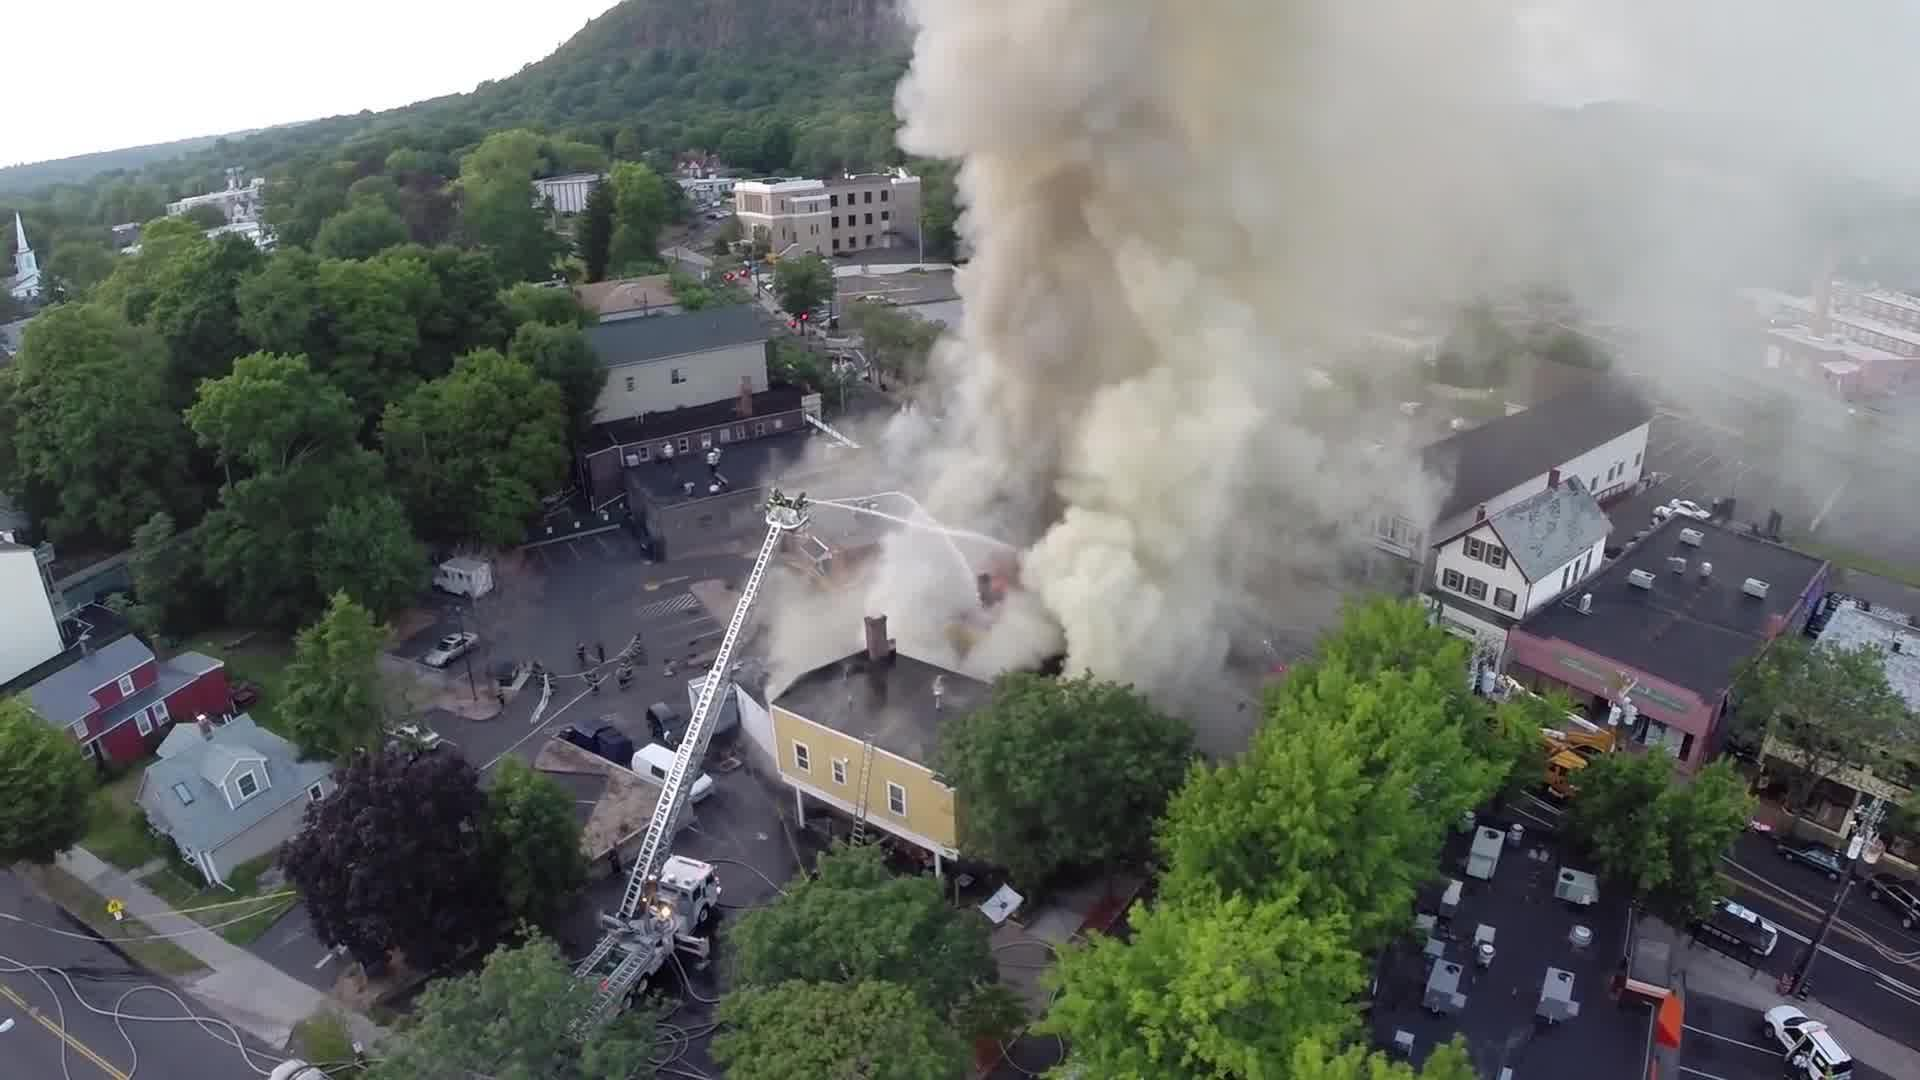smoke: (924, 25, 1316, 651), (1382, 21, 1855, 295)
